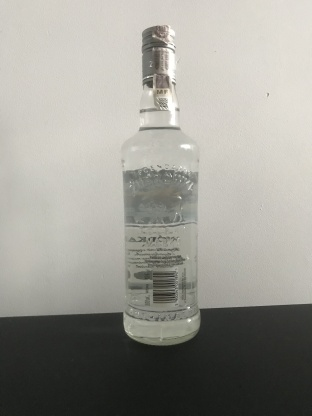nakretka: (139, 22, 178, 89)
